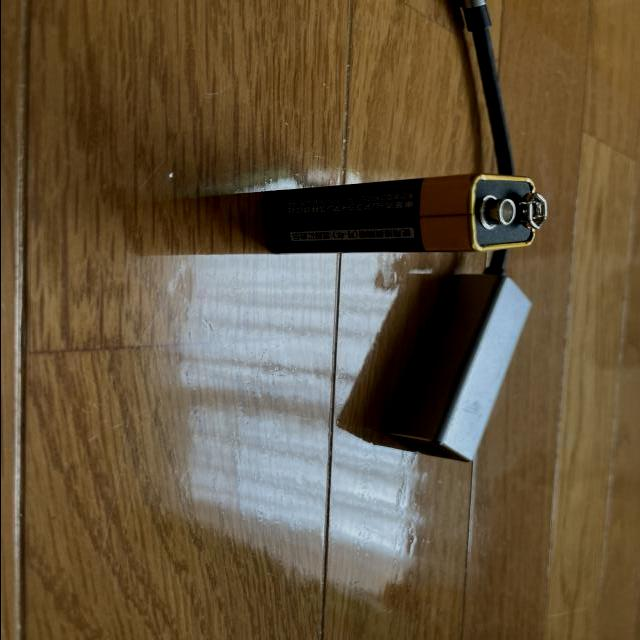9V: (262, 172, 547, 255)
